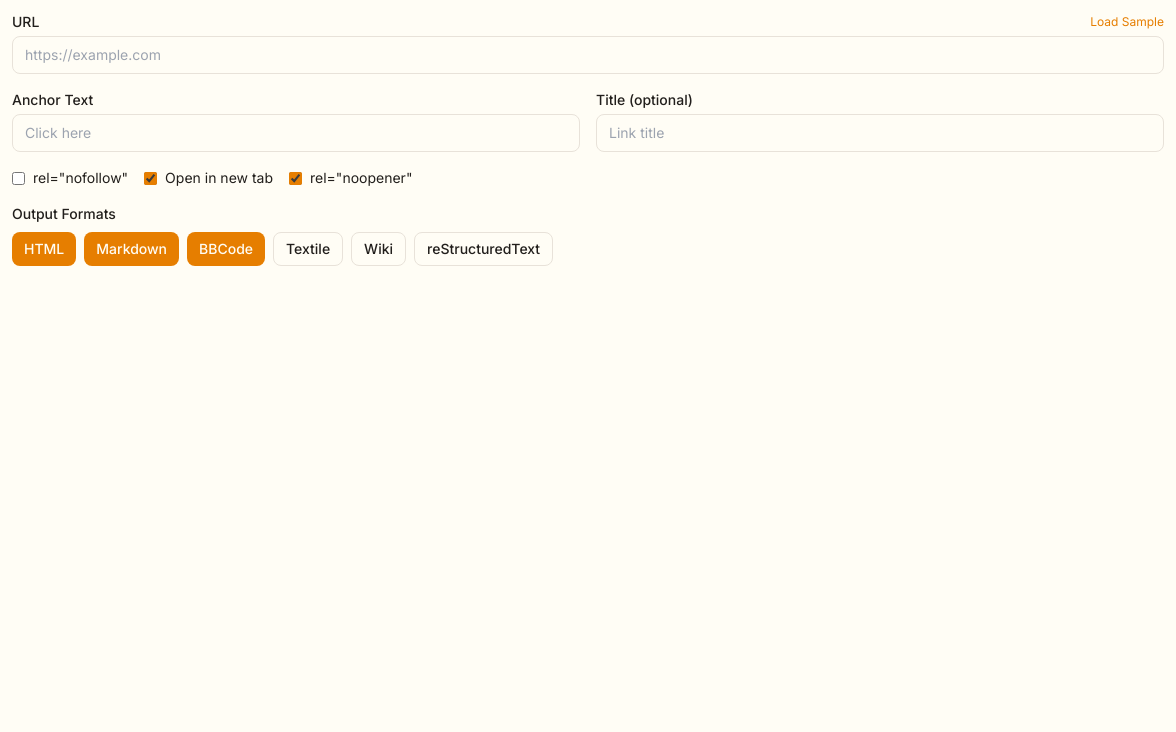
Scenario: BacklinkGenerator › loads sample data
Click the button "Load Sample" at (1127, 22), box [1090,14,1164,30]
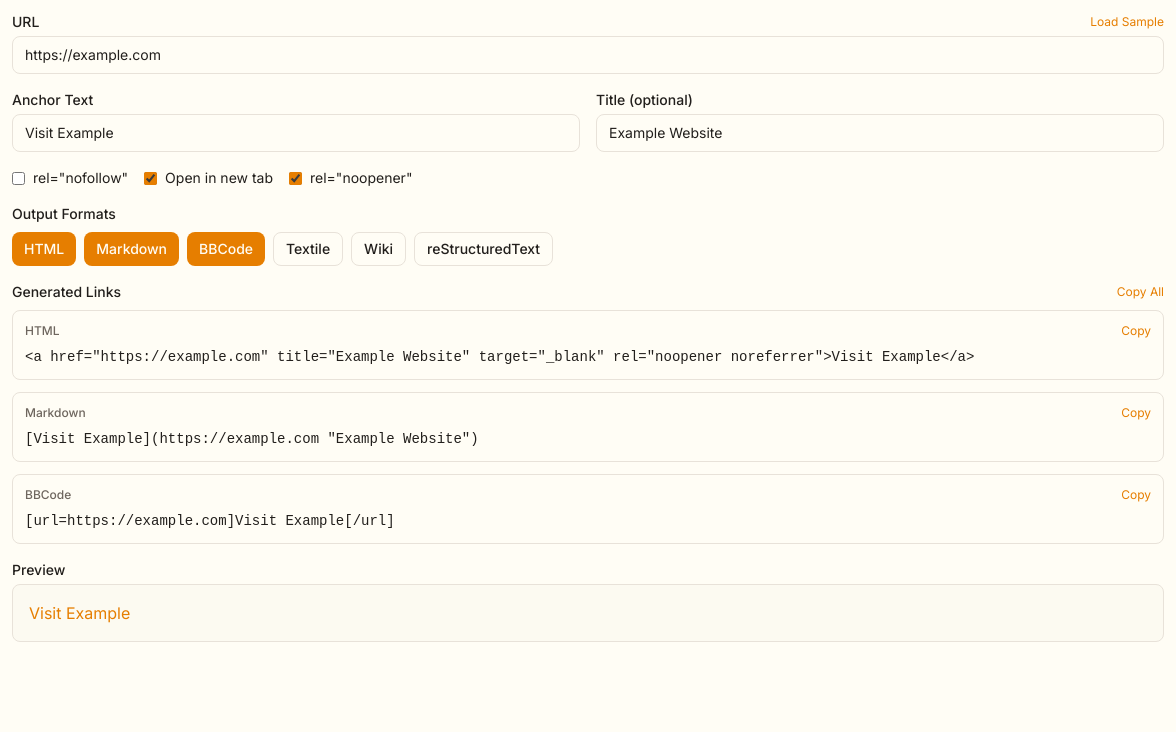
Expected: the field named "URL input" holds "https://example.com", [12,36,1164,74]
Expected: the field named "Anchor text" holds "Visit Example", [12,114,580,152]
